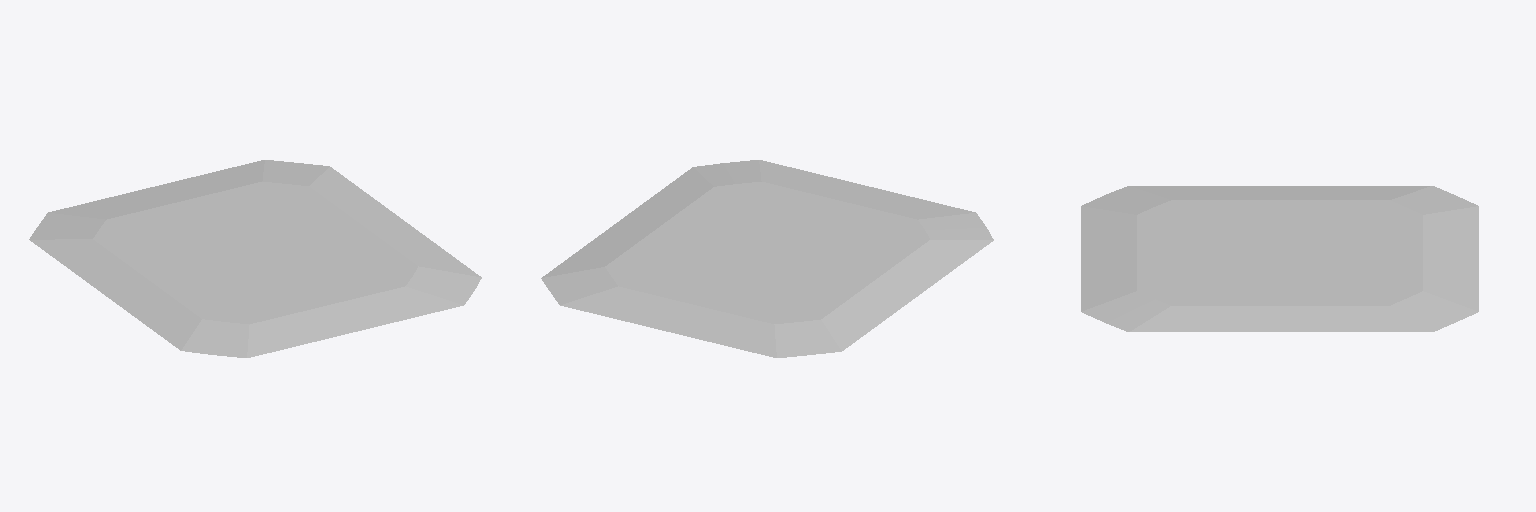
The model's file is Island_Foundation.obj.
The picture shows the model from 3 angles: view 1: azimuth 30°, elevation 25°; view 2: azimuth 150°, elevation 25°; view 3: azimuth 270°, elevation 25°; orthographic projection.
Parts seen in each view (by area): view 1: polySurface5115 pCube132; view 2: polySurface5115 pCube132; view 3: polySurface5115 pCube132.
Part boxes in pixels (x1,y1,x2,y2): polySurface5115 pCube132: (29,160,481,357); polySurface5115 pCube132: (541,160,993,357); polySurface5115 pCube132: (1081,186,1478,331).
Bounding box in the file's own units: 5.22 × 0.1 × 5.99.